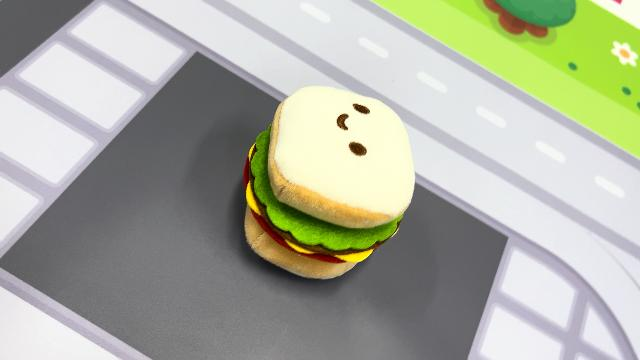sandwich: (240, 83, 418, 281)
